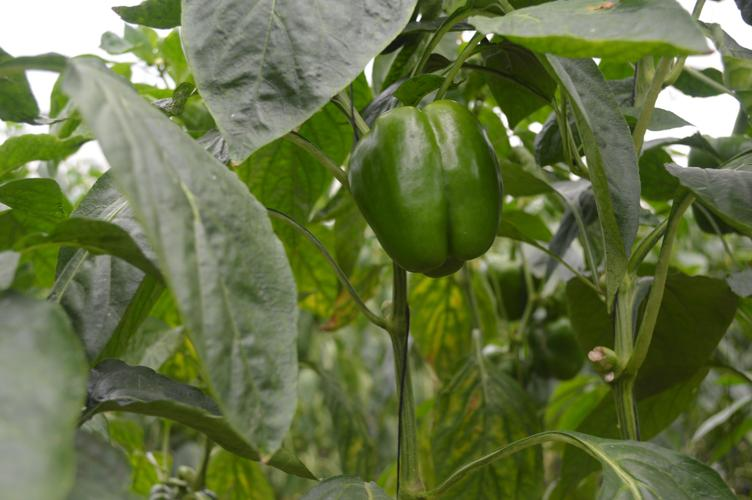BellPepper: (344, 101, 504, 276)
